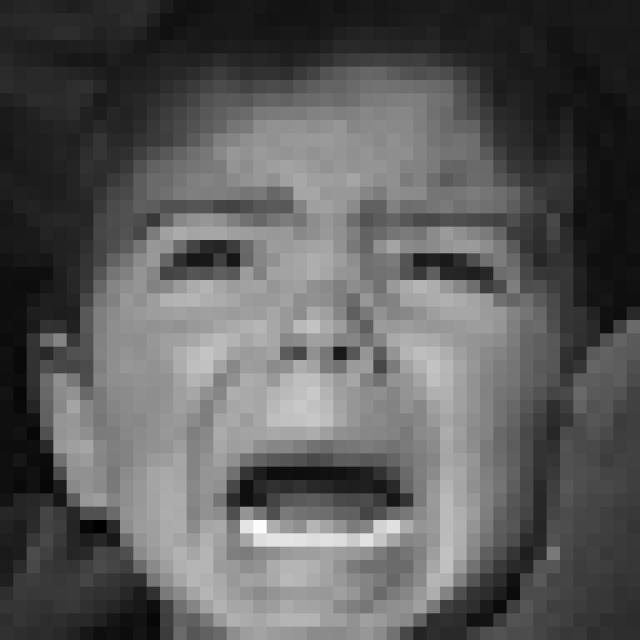fear: (107, 188, 558, 616)
